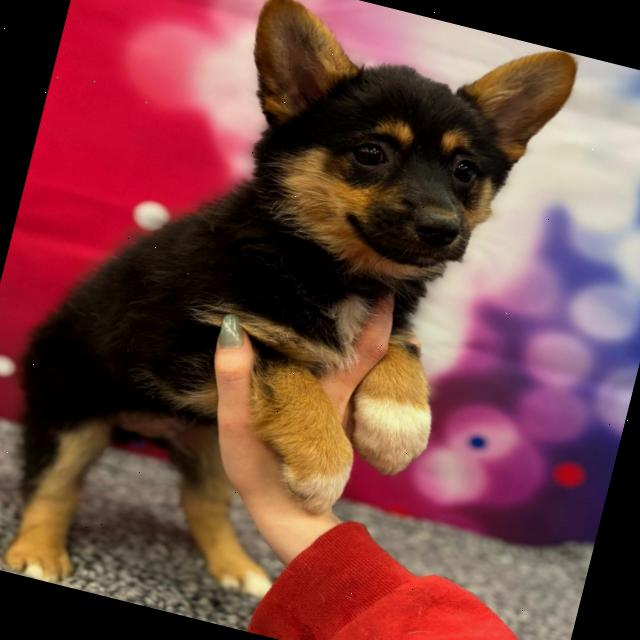corgi_dog: (154, 0, 608, 330)
